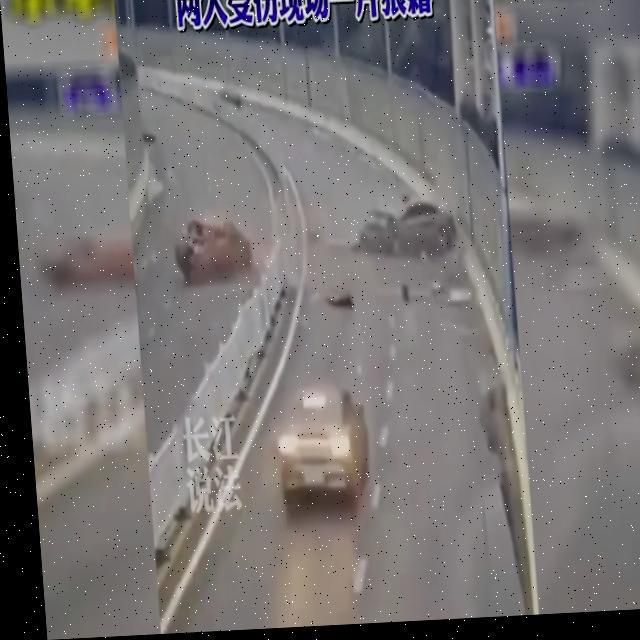multiple_accident: (135, 179, 491, 297)
